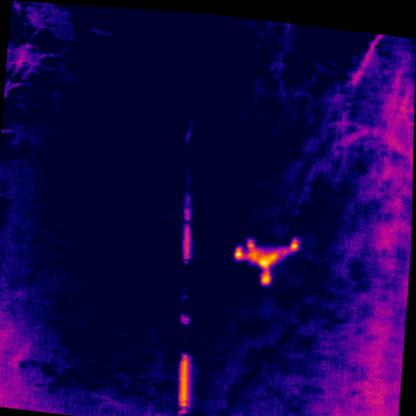drone: (232, 225, 300, 284)
